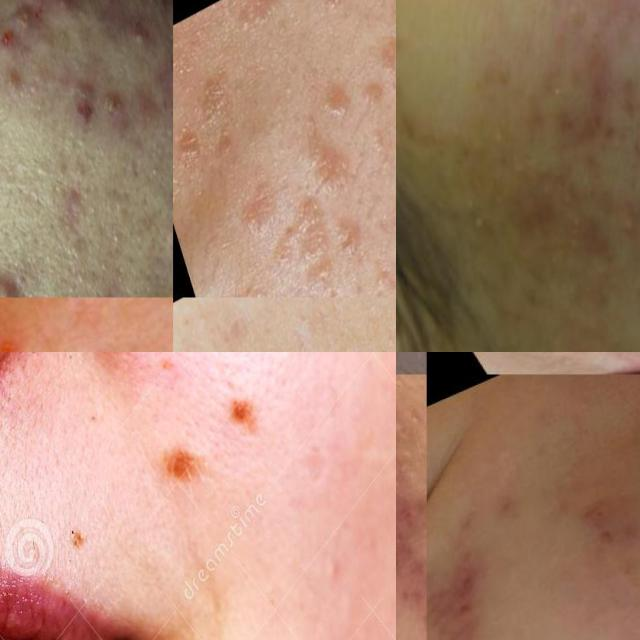acne_scars: (433, 545, 498, 640), (570, 483, 631, 560), (578, 58, 612, 162), (0, 316, 43, 352)
comedone: (98, 297, 150, 336), (567, 379, 605, 423), (460, 210, 490, 258), (402, 390, 426, 440), (615, 211, 640, 247), (396, 611, 415, 640)
flat_wart: (258, 166, 360, 298), (318, 192, 392, 298), (296, 112, 363, 210), (308, 66, 370, 146), (228, 170, 290, 248), (189, 60, 243, 132), (361, 0, 396, 102), (225, 0, 299, 42), (350, 66, 396, 127), (290, 0, 396, 25)
pustule: (124, 12, 159, 56), (396, 531, 413, 597)
sebo-crystan-conglo: (0, 0, 81, 70), (0, 262, 26, 297)
